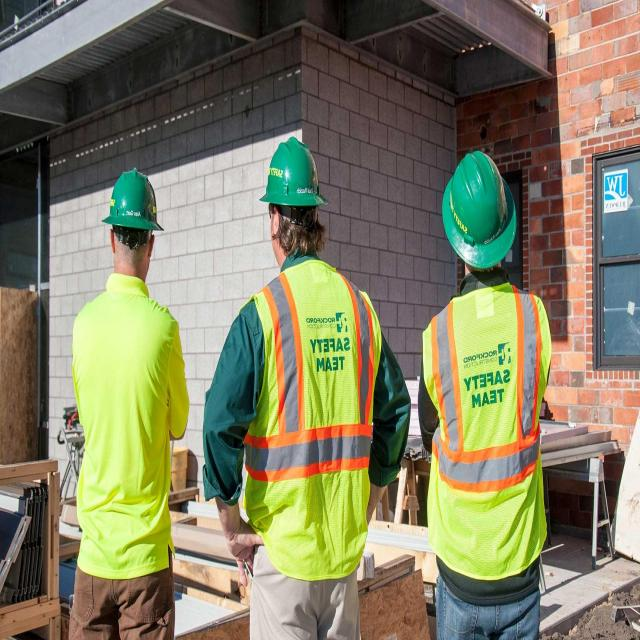Reflective-Jacket: (238, 258, 385, 586), (416, 281, 556, 583)
Safety-Helmet: (438, 143, 519, 270), (257, 132, 329, 214), (100, 162, 165, 238)
